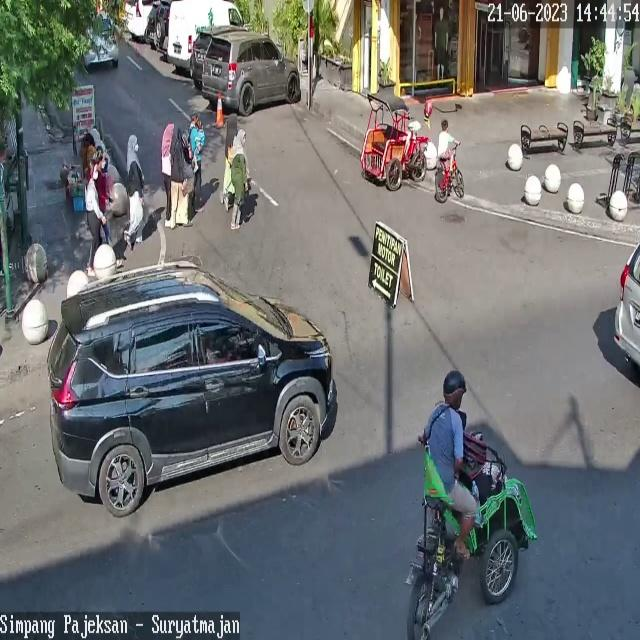motorcycle: (48, 259, 336, 516), (203, 30, 300, 116), (166, 0, 245, 67), (612, 236, 640, 368), (79, 11, 120, 71), (191, 27, 213, 84), (122, 0, 152, 38)
